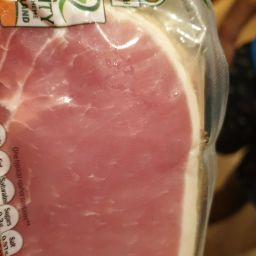Bacon: (4, 32, 231, 246), (29, 32, 226, 255), (24, 49, 180, 256), (111, 7, 240, 255)
